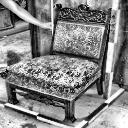chair_success: (1, 2, 118, 126)
